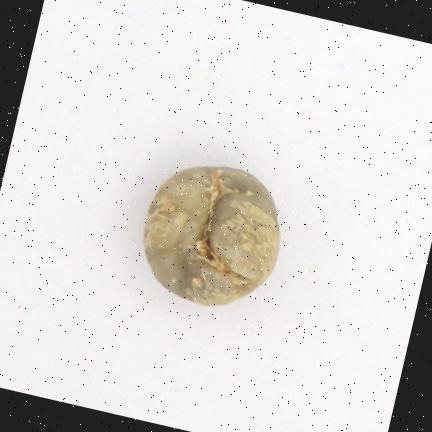immature: (144, 167, 280, 305)
